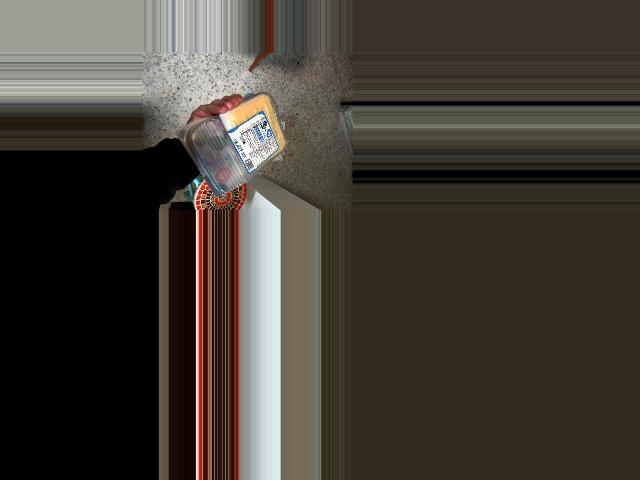cheese: (192, 106, 290, 193)
